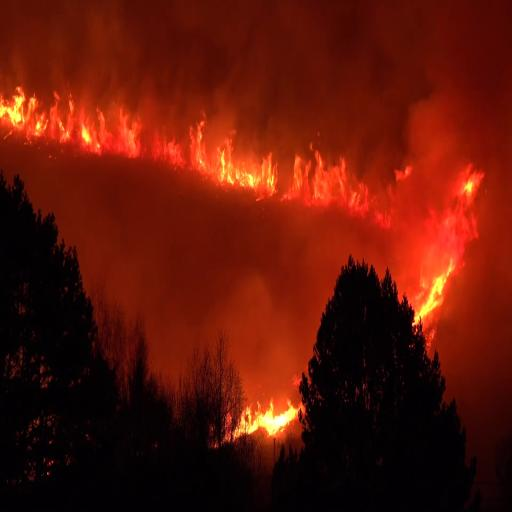fire: (4, 77, 78, 151), (278, 147, 358, 215), (214, 134, 282, 213), (226, 383, 308, 447), (150, 110, 220, 178), (77, 95, 150, 157), (406, 254, 460, 325)
